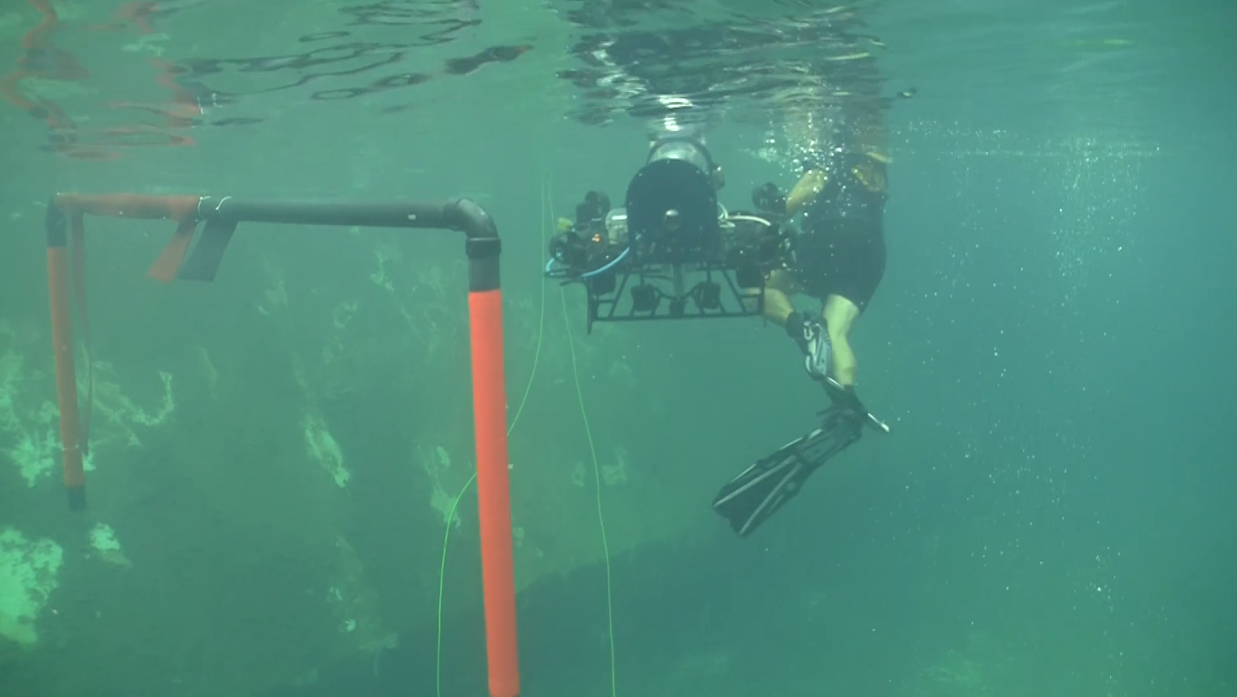gate: (35, 178, 536, 693)
